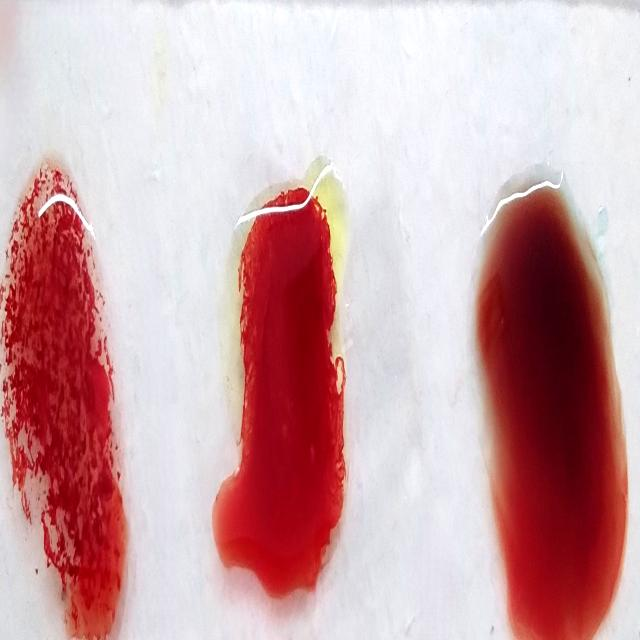B: (225, 160, 347, 606)
D: (4, 153, 126, 640)
